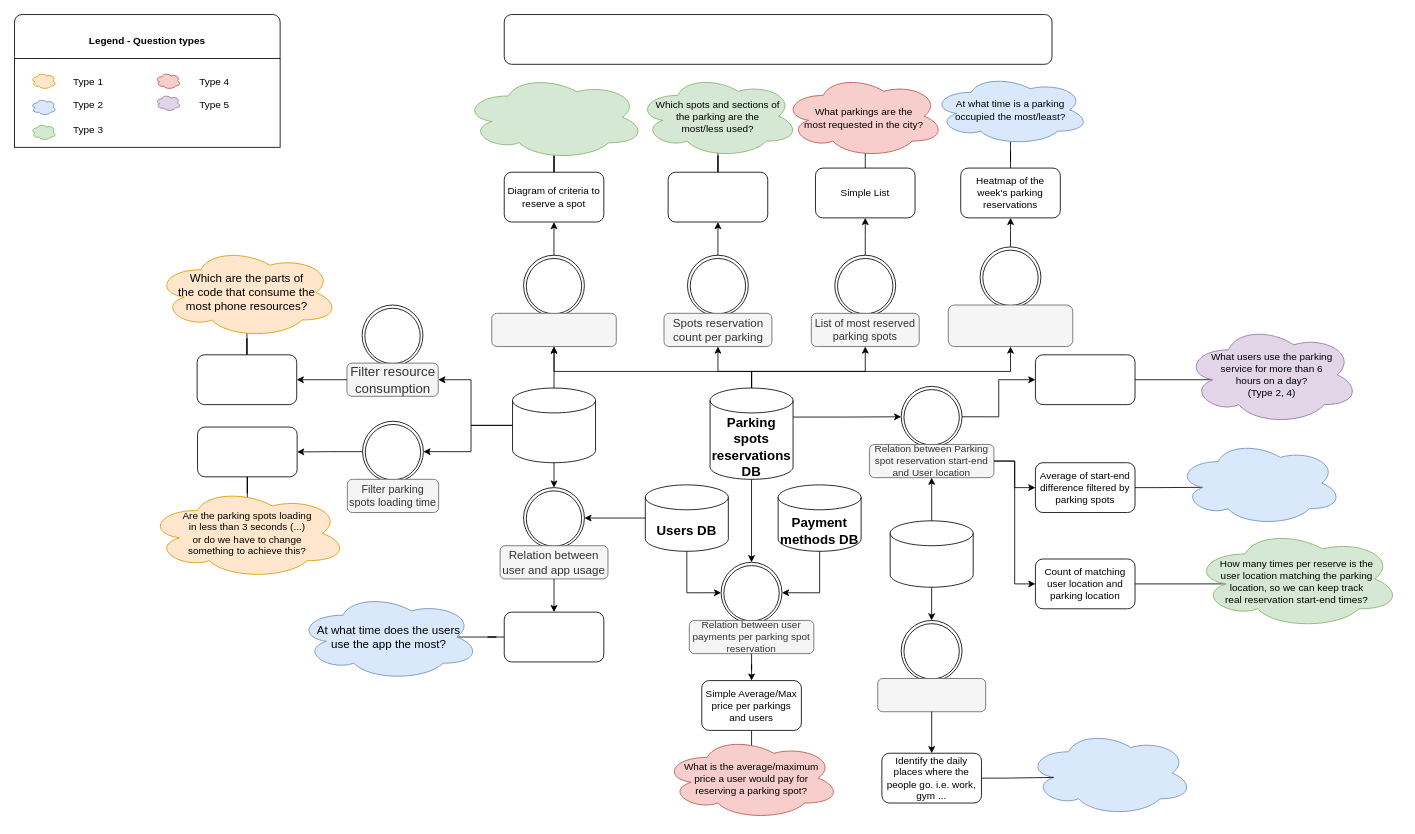
Image size: 1415x834. Some labels were removed from this diagram. Each missing label, with the centre of its shape:
App Interactions DB: [554,425]
Filter User frequented places: [931,695]
Heatmap per week with daily usage: [553,636]
List of Max/Min spot reservations in the parking: [717,196]
List of steps a user takes to reserve a spot: [553,329]
List Users that use the service more than 6 hours a day: [1085,379]
ParkEz - Visualization data map: [777,39]
Relation between parking reservations and datetime: [1010,325]
Resource consumption per screen: [246,379]
Simple loading time statistics: [247,451]
Users location DB: [931,553]
What are the nearest parkings from the users' most frequented places?: [1109,773]
What criteria are the users using to select a parking spot?: [553,117]
What is the average waiting time for a parking spot to be freed?: [1259,482]
